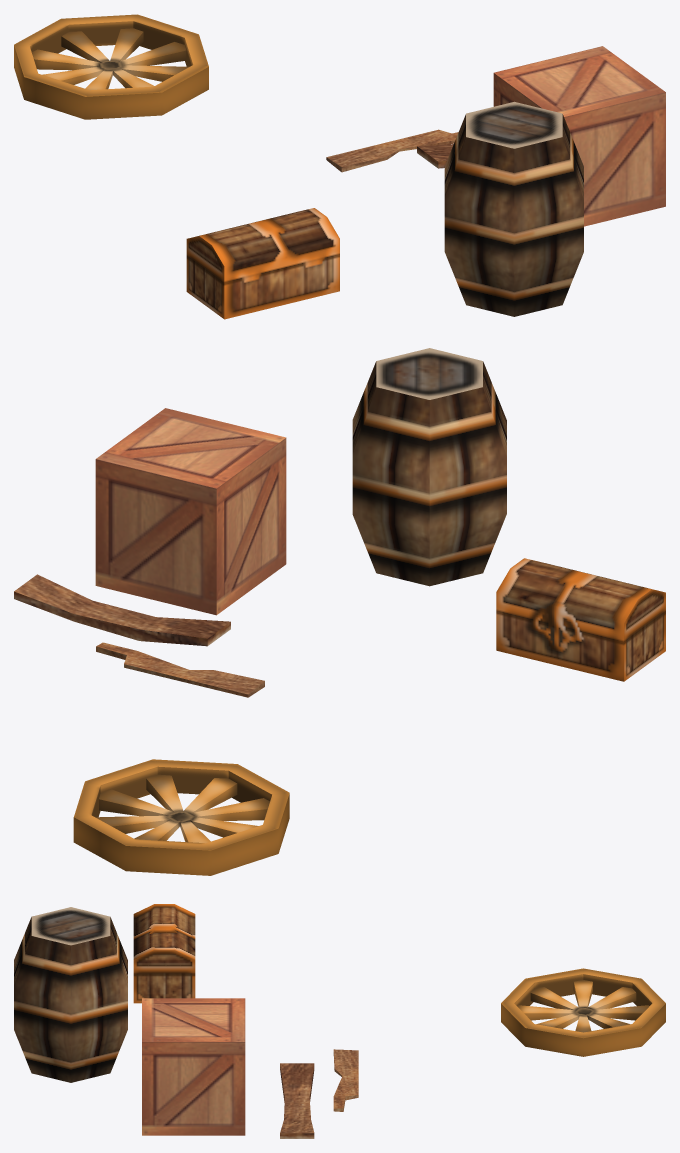
The model's file is datails.FBX.
3 views of the same model, one above another, from view 1: azimuth 30°, elevation 25°; view 2: azimuth 150°, elevation 25°; view 3: azimuth 270°, elevation 25° (orthographic). The views are drawn at different scales.
Visible parts, largest first — view 1: Barel, Box, Wheel, Chamber, board_s, board_b; view 2: Box, Barel, Wheel, Chamber, board_b, board_s; view 3: Barel, Box, Wheel, Chamber, board_b, board_s.
Boxes of the visible parts, x1,y1,x2,y2 form: Barel: [444, 101, 583, 316]; Box: [493, 46, 665, 226]; Wheel: [14, 14, 208, 119]; Chamber: [186, 208, 339, 319]; board_s: [326, 129, 458, 172]; board_b: [417, 144, 453, 168]; Box: [95, 408, 286, 615]; Barel: [352, 348, 506, 586]; Wheel: [73, 759, 289, 875]; Chamber: [496, 558, 665, 681]; board_b: [14, 574, 230, 646]; board_s: [96, 642, 264, 697]; Barel: [14, 907, 127, 1082]; Box: [142, 998, 245, 1135]; Wheel: [501, 968, 665, 1056]; Chamber: [133, 904, 195, 1003]; board_b: [280, 1063, 314, 1138]; board_s: [333, 1049, 358, 1111].
Bounding box in the file's own units: 2.19 × 0.7348 × 3.16.
Materials: 1 (1 with a texture image).
